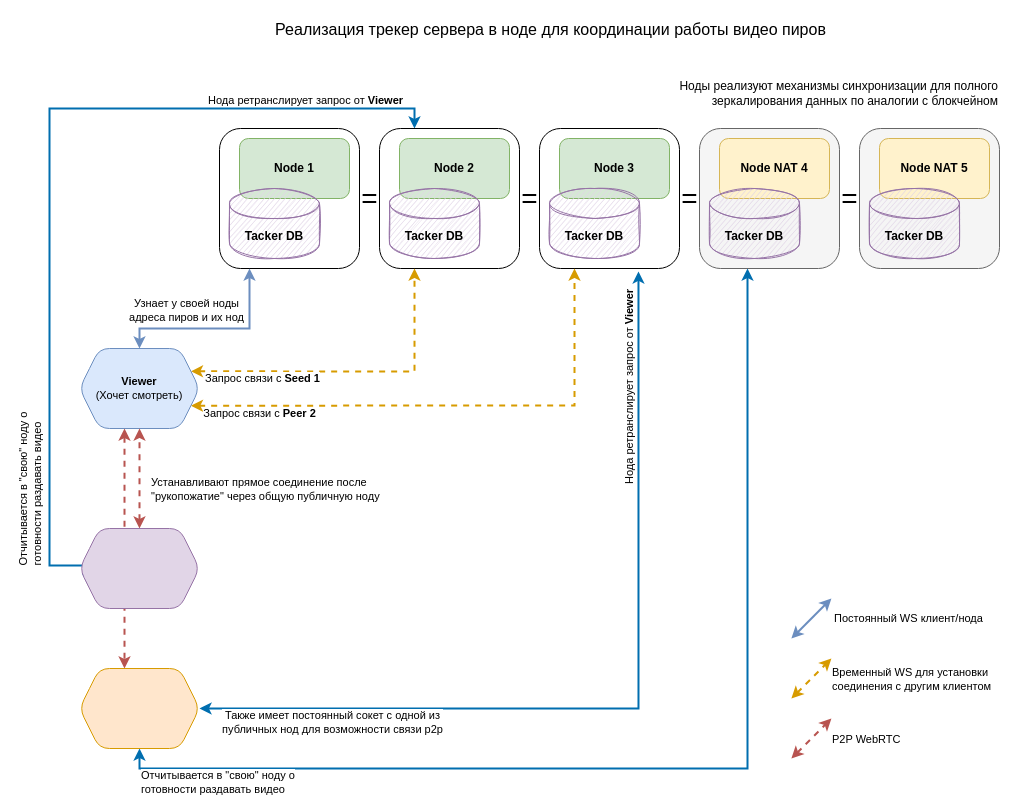
Some shapes in this 1017 by 812 pixel diagram are drawn without their labels. Here are the shapes that lost their labels. From the top down, the centre of each, then its label:
At point 139,568: "Seed 1 (Может раздавать)".
At point 139,708: "Peer 2 (Может раздавать частично)".
